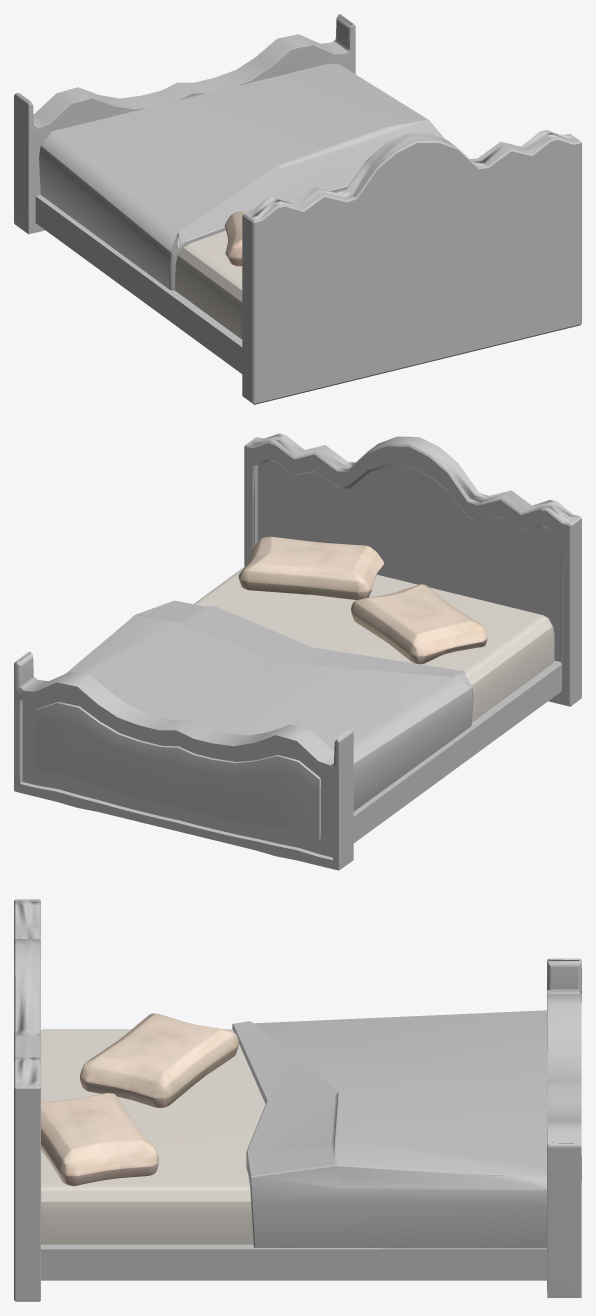
File: MESSYBedRoughness.fbx
3 views of the same model, one above another, from view 1: azimuth 30°, elevation 25°; view 2: azimuth 150°, elevation 25°; view 3: azimuth 270°, elevation 25° (orthographic). The views are drawn at different scales.
Visible parts, largest first — view 1: Bedframe, Messy_blanket, mattress.001, Pillows.001; view 2: Bedframe, Messy_blanket, mattress.001, Pillows, Pillows.001; view 3: Messy_blanket, Bedframe, mattress.001, Pillows.001, Pillows.
Boxes of the visible parts, left/top/right/bottom form: Bedframe: left=14, top=14, right=581, bottom=404; Messy_blanket: left=39, top=63, right=445, bottom=290; mattress.001: left=174, top=230, right=242, bottom=339; Pillows.001: left=224, top=211, right=249, bottom=266; Bedframe: left=14, top=433, right=581, bottom=870; Messy_blanket: left=65, top=600, right=473, bottom=811; mattress.001: left=193, top=566, right=554, bottom=722; Pillows: left=238, top=536, right=384, bottom=600; Pillows.001: left=351, top=584, right=487, bottom=664; Messy_blanket: left=232, top=1010, right=548, bottom=1248; Bedframe: left=14, top=899, right=581, bottom=1301; mattress.001: left=41, top=1029, right=265, bottom=1244; Pillows.001: left=79, top=1013, right=238, bottom=1107; Pillows: left=41, top=1093, right=158, bottom=1186.
Size of the model in its own units: 427 by 277 by 543.
